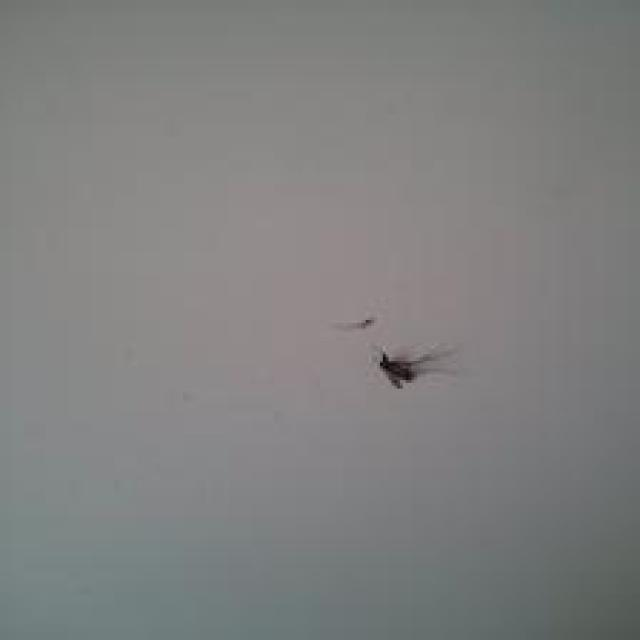Aedes albopictus: (373, 341, 456, 390)
